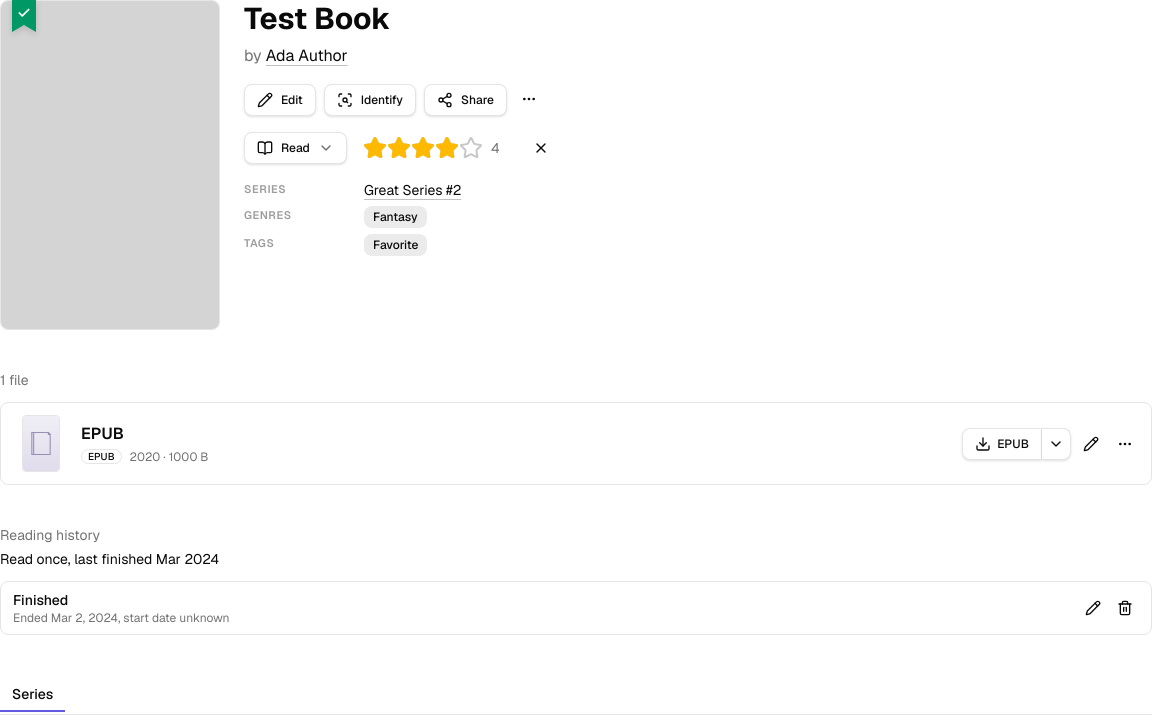
it: BookDetailBody file rows › says Yes for an abridged file instead of repeating the label
The width and height of the screenshot is (1152, 720).
Click the button named "File actions": click(1125, 444) x1=1111 y1=430 x2=1139 y2=458
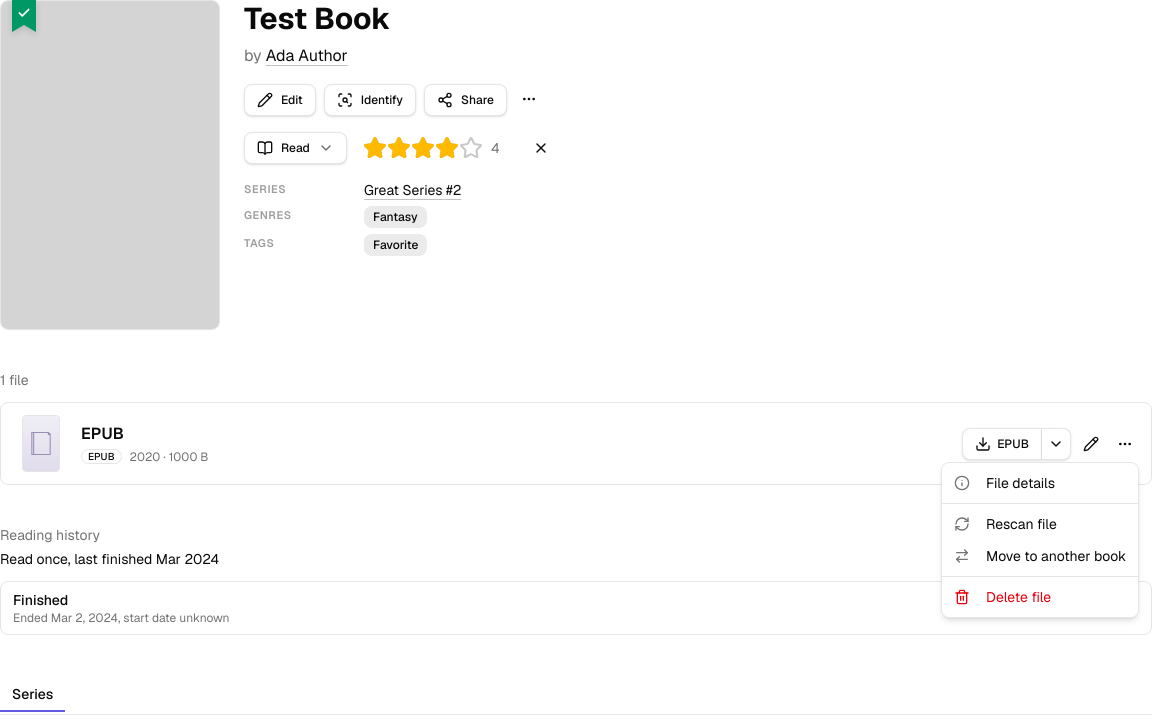
Click the menu item "File details": click(1005, 483) x1=954 y1=474 x2=1055 y2=492
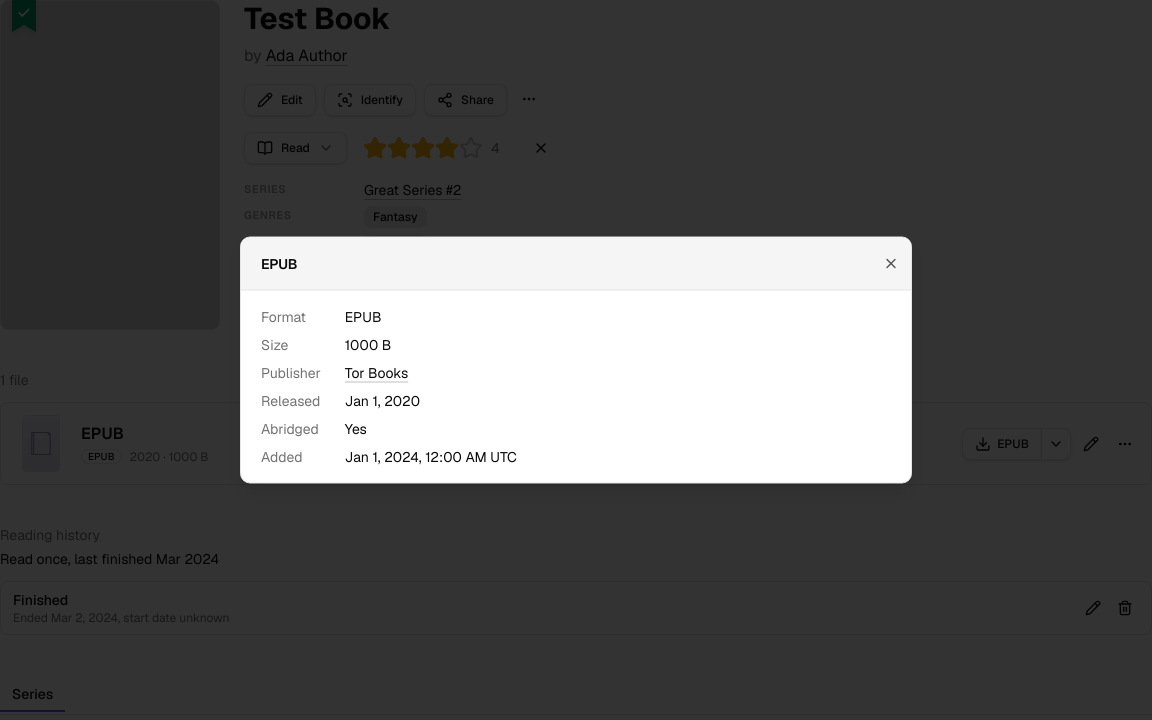
Expected: the text "Yes" is shown, x1=345 y1=420 x2=367 y2=438
